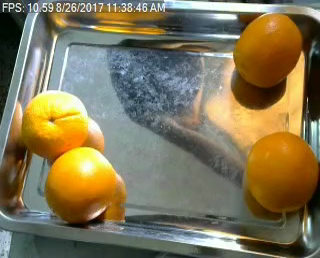Orange: (246, 130, 318, 214), (44, 146, 115, 220), (233, 11, 303, 86), (21, 90, 89, 157)
